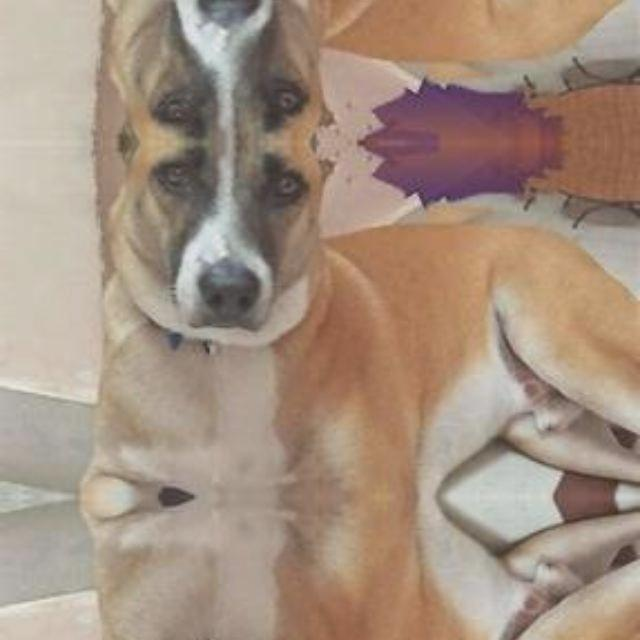dog: (57, 142, 407, 428), (57, 0, 407, 142), (57, 565, 407, 640)
